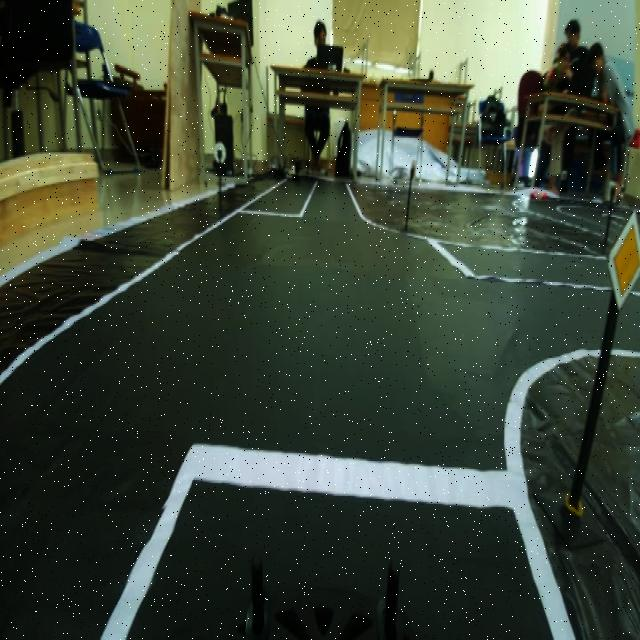priority: (609, 210, 640, 314)
